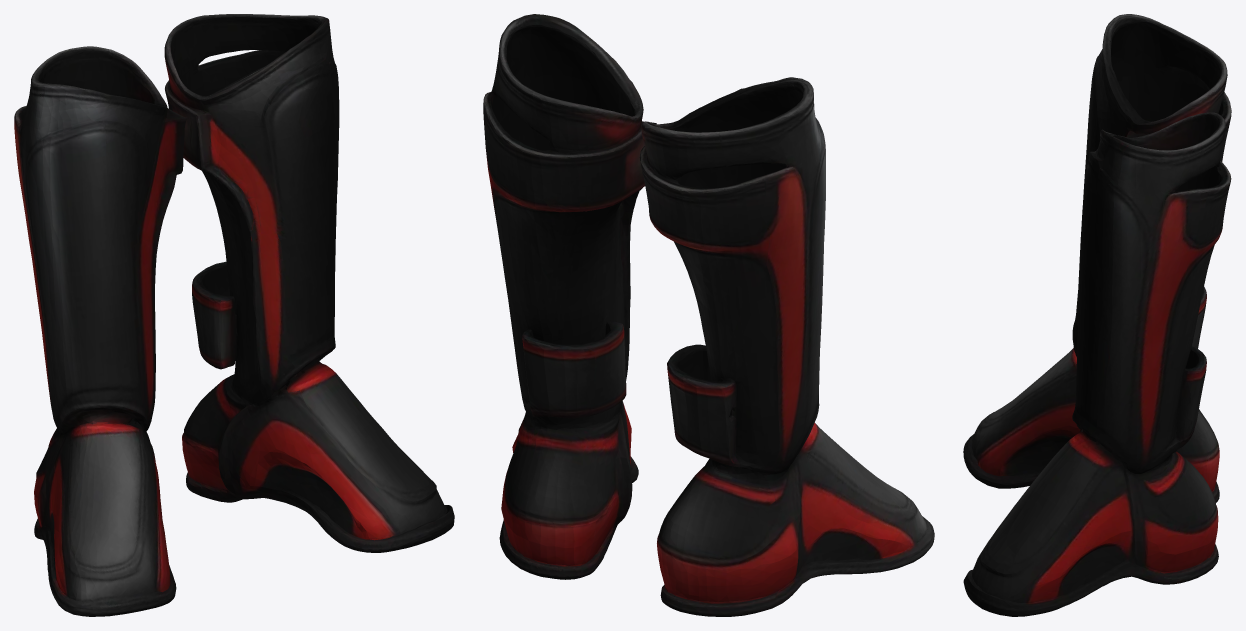
Rendered from shin-pads.glb.
The picture shows the model from 3 angles, left to right: view 1: azimuth 30°, elevation 25°; view 2: azimuth 150°, elevation 25°; view 3: azimuth 270°, elevation 25°; orthographic projection. The views are drawn at different scales.
Visible parts, largest first — view 1: geometry_0; view 2: geometry_0; view 3: geometry_0.
Boxes of the visible parts, x1=… form: geometry_0: x1=14, y1=14, x2=454, y2=616; geometry_0: x1=483, y1=14, x2=934, y2=616; geometry_0: x1=963, y1=14, x2=1231, y2=616.
Size of the model in its own units: 0.8386 by 0.9948 by 0.5365.
1 material, 1 textured.
